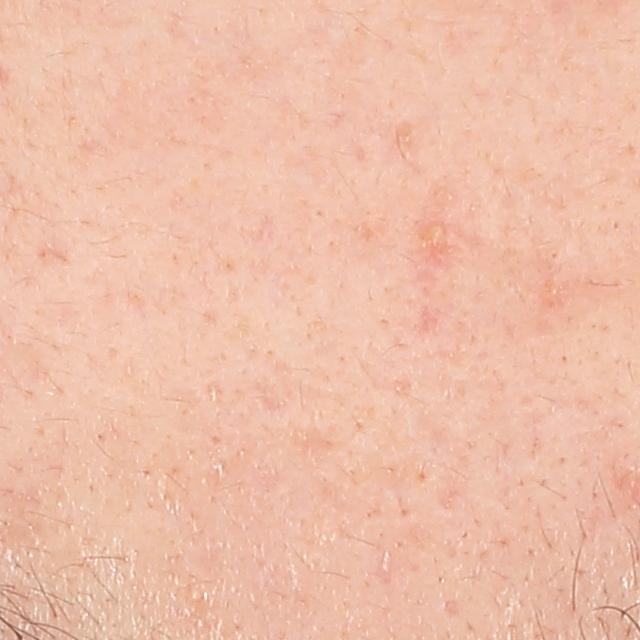comedo: (550, 249, 560, 260)
pustule: (421, 218, 448, 244)
